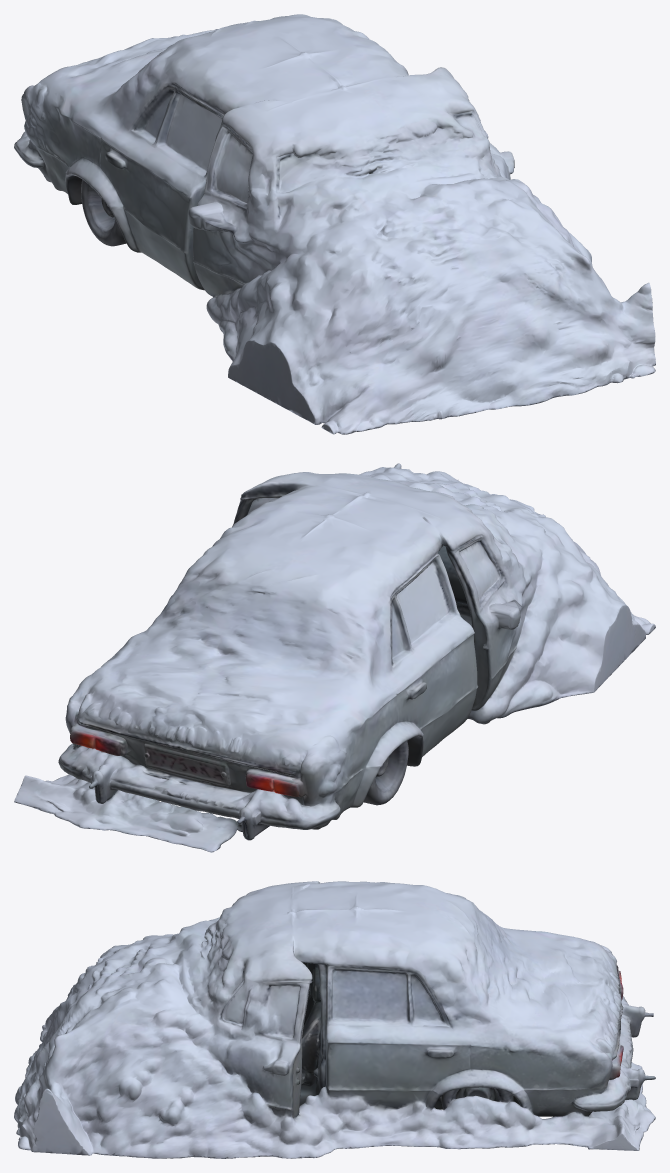
The model's file is 2101close.glb.
3 views of the same model, one above another, from view 1: azimuth 30°, elevation 25°; view 2: azimuth 150°, elevation 25°; view 3: azimuth 270°, elevation 25° (orthographic). The views are drawn at different scales.
Visible parts, largest first — view 1: tripo_node_89e9ba75-27dd-40f6-8243-c99ad7be0ee4; view 2: tripo_node_89e9ba75-27dd-40f6-8243-c99ad7be0ee4; view 3: tripo_node_89e9ba75-27dd-40f6-8243-c99ad7be0ee4.
Boxes of the visible parts, x1=… form: tripo_node_89e9ba75-27dd-40f6-8243-c99ad7be0ee4: x1=14, y1=14, x2=655, y2=434; tripo_node_89e9ba75-27dd-40f6-8243-c99ad7be0ee4: x1=14, y1=463, x2=655, y2=852; tripo_node_89e9ba75-27dd-40f6-8243-c99ad7be0ee4: x1=14, y1=881, x2=655, y2=1158.
Size of the model in its own units: 0.5248 by 0.3045 by 0.9814.
Materials: 1 (1 with a texture image).
